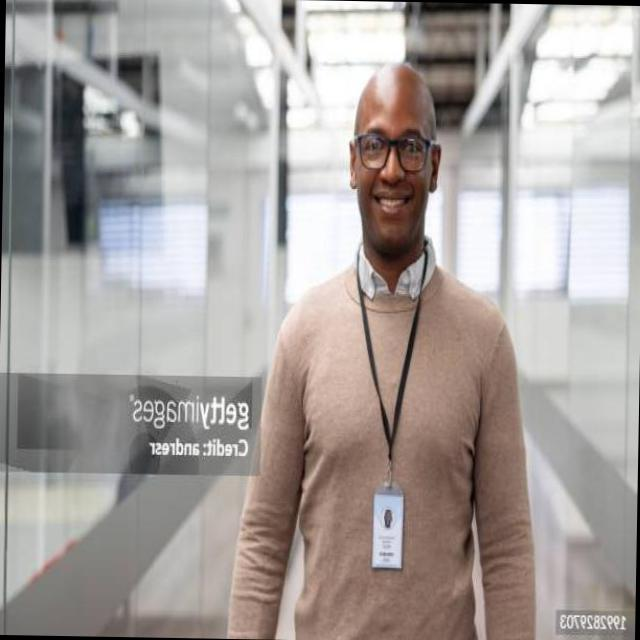id_card: (355, 238, 427, 572)
